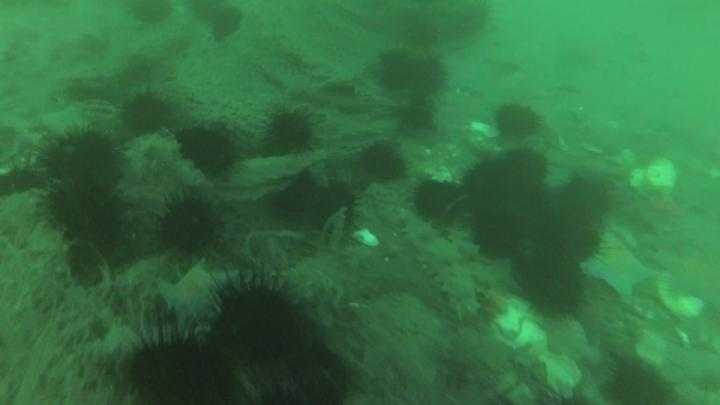echinus: (128, 341, 222, 405), (223, 286, 302, 356), (526, 186, 597, 261), (48, 185, 125, 254), (41, 133, 120, 186), (526, 260, 588, 316), (159, 200, 219, 253), (606, 361, 678, 405), (176, 129, 236, 173), (474, 207, 523, 258), (277, 171, 323, 223), (467, 166, 517, 210), (414, 181, 462, 223), (505, 149, 549, 192), (123, 95, 168, 136), (567, 179, 613, 216), (322, 188, 358, 235), (362, 145, 404, 185), (497, 105, 542, 139), (269, 112, 310, 148), (378, 51, 411, 88), (413, 57, 444, 91), (212, 10, 242, 41), (132, 1, 173, 23)
holothurian: (400, 210, 481, 324)
starfish: (583, 227, 658, 301), (157, 267, 236, 328)
